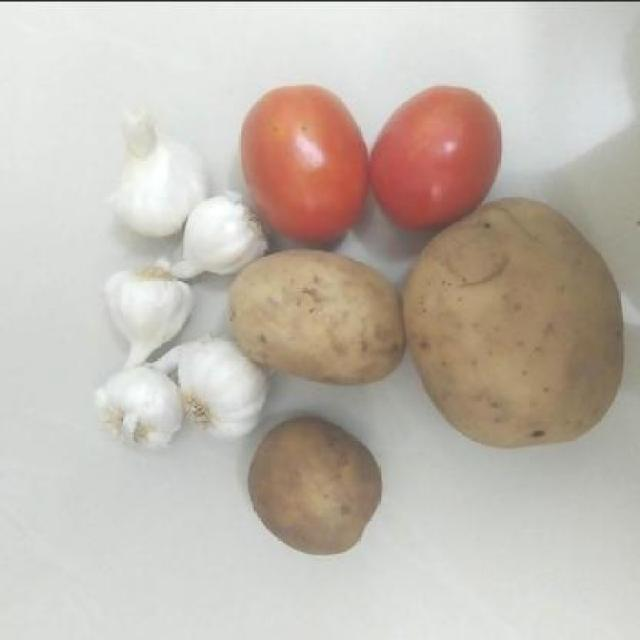Garlic: (115, 101, 211, 234), (169, 190, 268, 284), (114, 255, 191, 372), (176, 340, 256, 445), (99, 360, 188, 449)
Potato: (414, 194, 626, 458), (230, 243, 412, 386), (245, 414, 386, 558)
Tomato: (238, 80, 371, 246), (364, 81, 506, 232)
